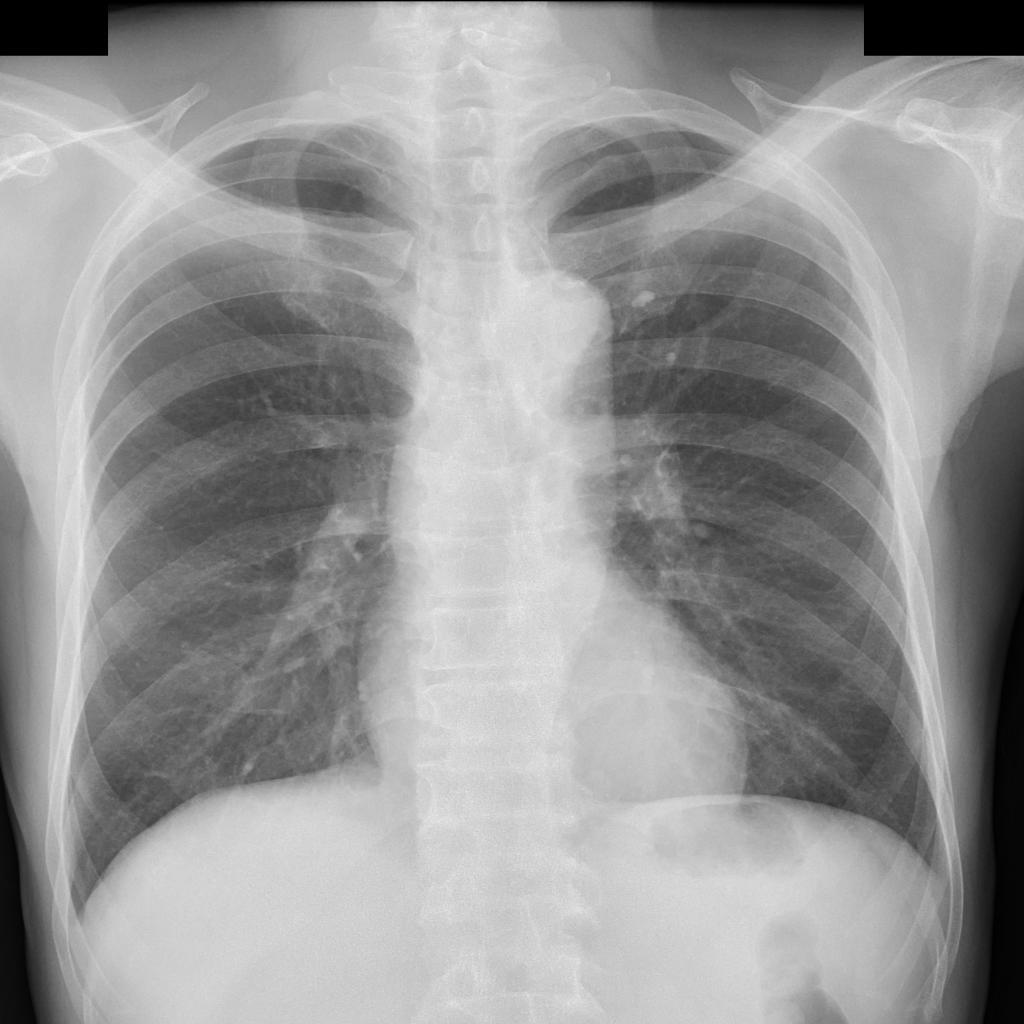Nodule: (633, 283, 657, 310)
